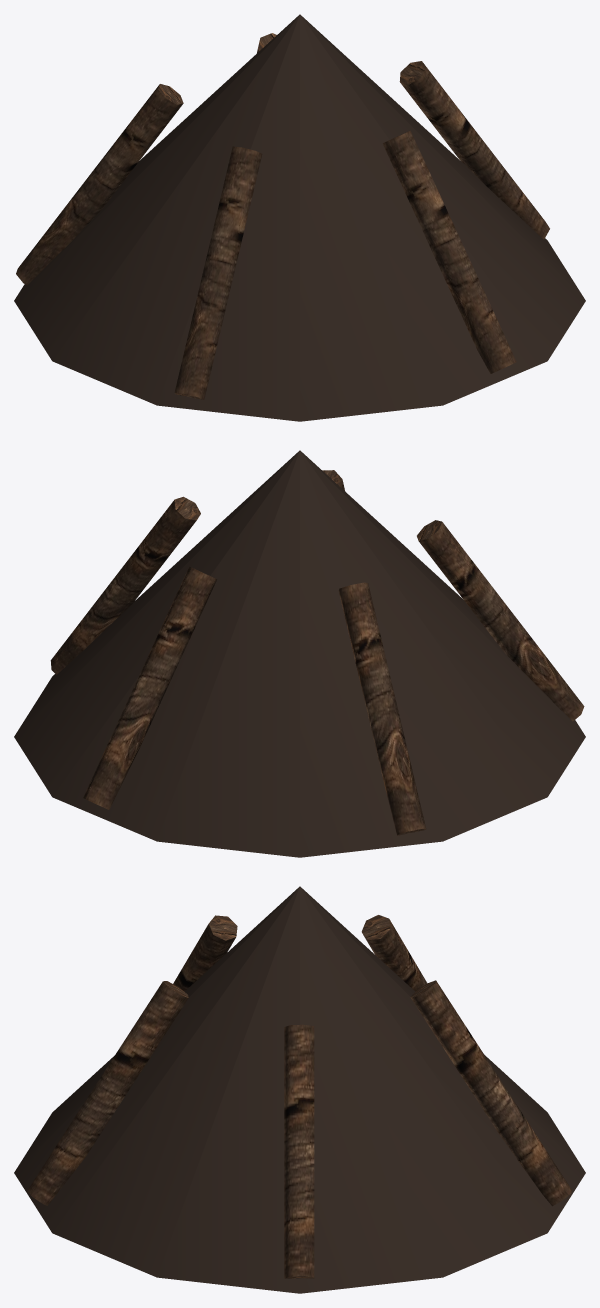
File: coalPile.glb
3 views of the same model, one above another, from view 1: azimuth 30°, elevation 25°; view 2: azimuth 150°, elevation 25°; view 3: azimuth 270°, elevation 25° (orthographic).
Visible parts, largest first — view 1: part_0, part_1; view 2: part_0, part_1; view 3: part_0, part_1.
Part boxes in pixels (bbox=[...]): part_0: bbox=[14, 14, 585, 421]; part_1: bbox=[16, 33, 549, 399]; part_0: bbox=[14, 450, 585, 857]; part_1: bbox=[50, 470, 584, 835]; part_0: bbox=[14, 886, 585, 1293]; part_1: bbox=[27, 915, 571, 1278].
Bounding box in the file's own units: 1.08 × 0.6 × 1.08.
2 materials, 1 textured.
